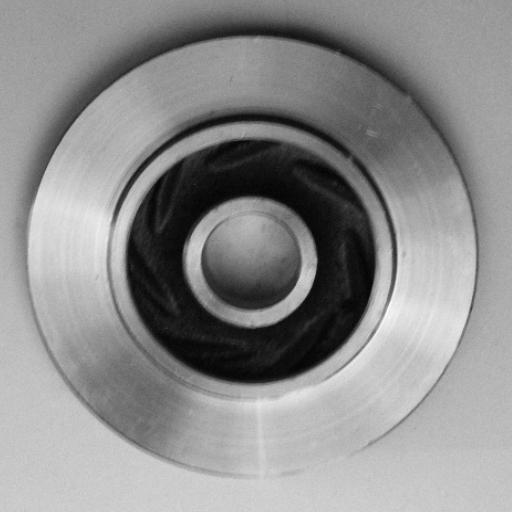unpolished_casting: (22, 31, 478, 479)
